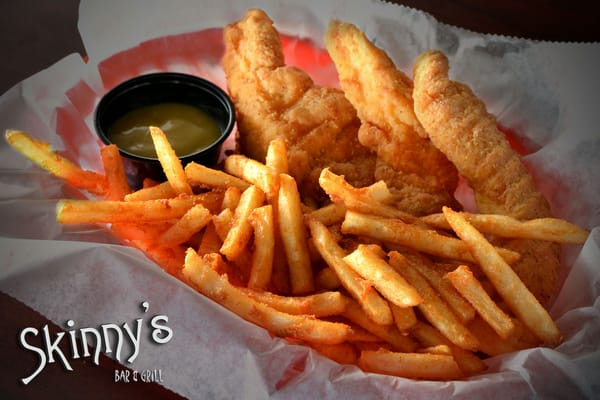sushi: (91, 71, 237, 169)
